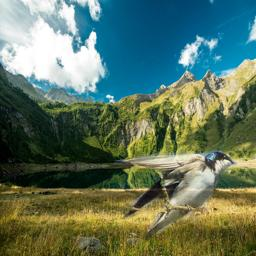Swallow: (114, 149, 237, 243)
